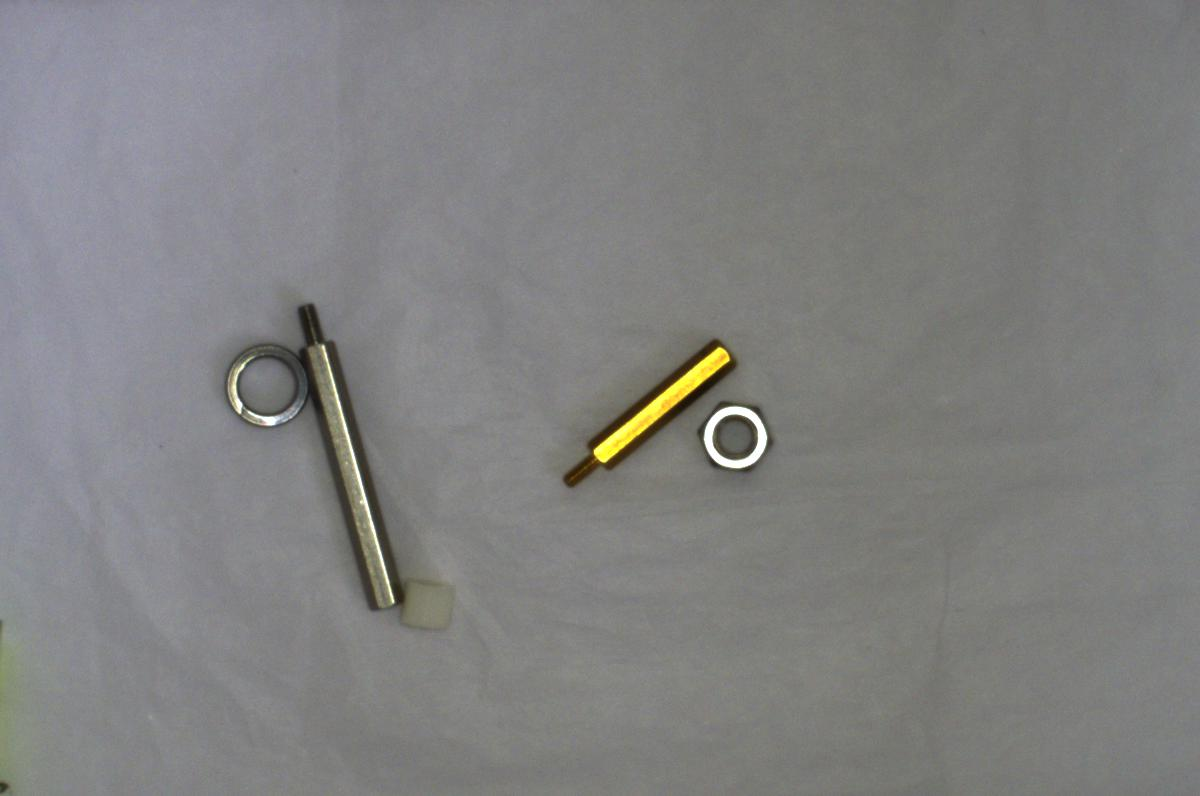Hexagon nut: (687, 394, 785, 482)
Hexagon pillar: (547, 332, 732, 492)
Hexagonal steel column: (299, 296, 397, 613)
Plastic cushion pillar: (395, 572, 465, 636)
Spring washer: (215, 336, 313, 434)
